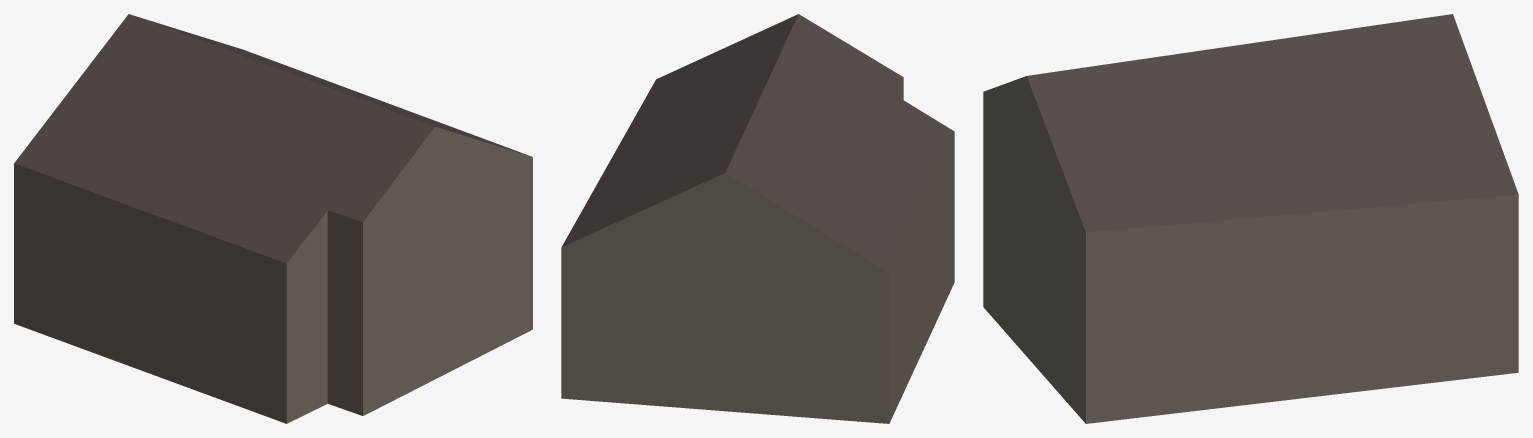
3 renders of one model, left to right at view 1: azimuth 30°, elevation 25°; view 2: azimuth 150°, elevation 25°; view 3: azimuth 270°, elevation 25°, orthographic. The views are drawn at different scales.
Visible parts, largest first — view 1: HP-w1198645050; view 2: HP-w1198645050; view 3: HP-w1198645050.
Part boxes in pixels (<box>): HP-w1198645050: <box>14,14,532,423</box>; HP-w1198645050: <box>561,14,954,423</box>; HP-w1198645050: <box>983,14,1518,423</box>.
Bounding box in the file's own units: 15 × 9.46 × 16.36.
